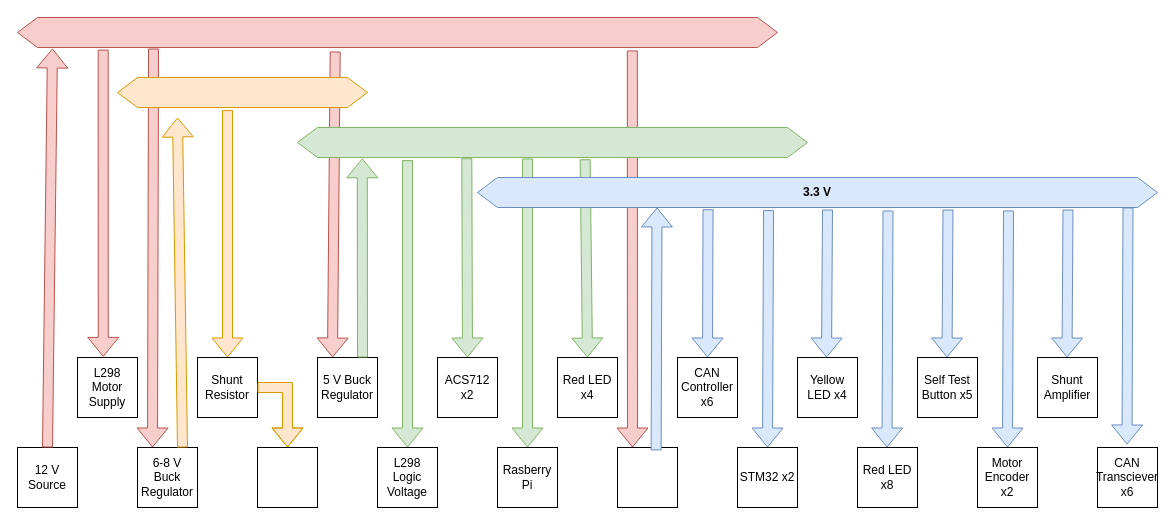
Some shapes in this 1176 by 525 pixel diagram are drawn without their labels. The shapes that lost their labels are listed below. From the top down, each one's box as (x1, y1, x2, y2) in pixels, then its label:
(16, 16, 778, 48): 12 V
(116, 76, 368, 108): 7 V
(296, 126, 808, 158): 5 V
(256, 446, 318, 508): Steering Servo
(616, 446, 678, 508): 3.3 V Buck Regulator
